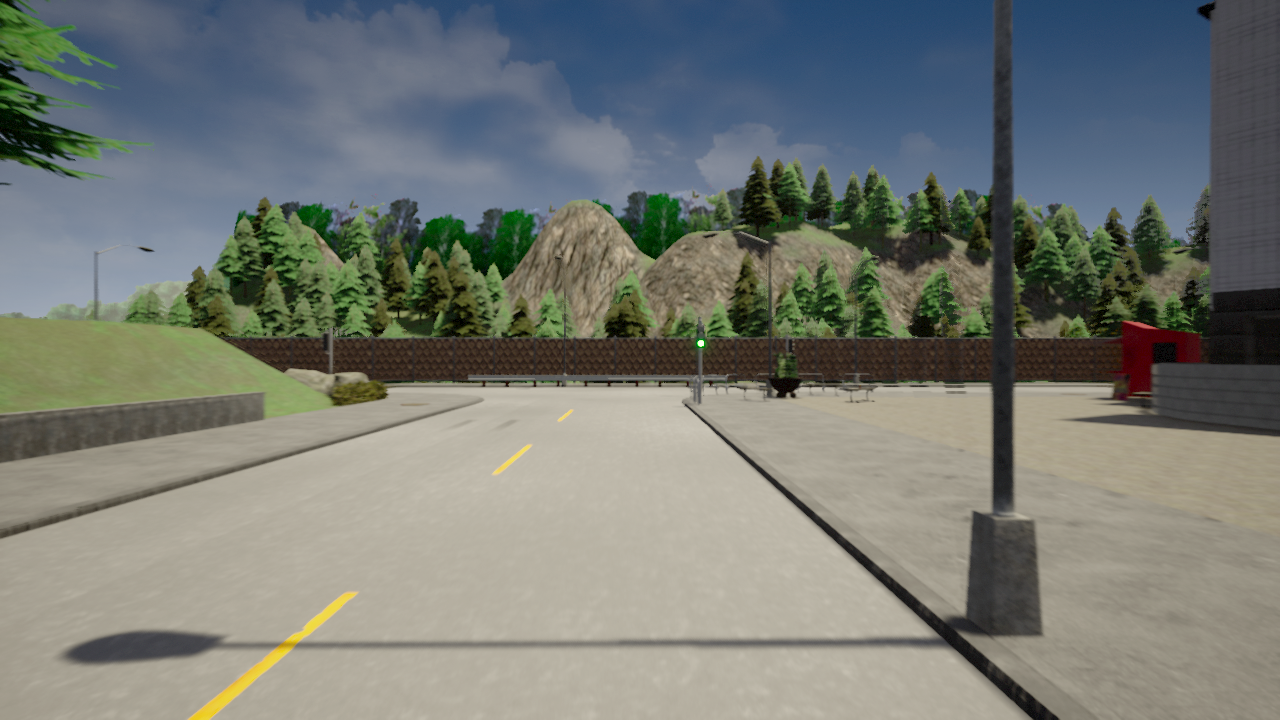green: (695, 323, 707, 349)
